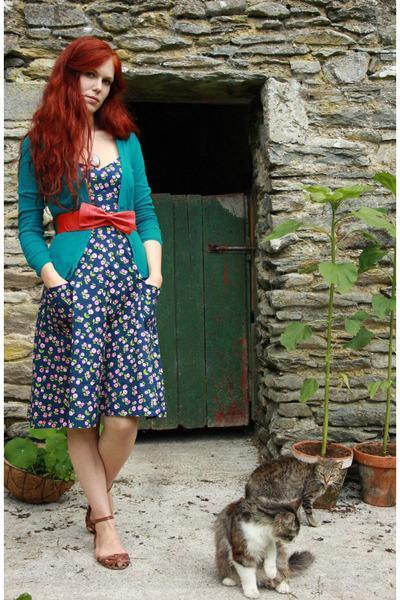dress: (12, 162, 163, 430)
jacket: (4, 133, 161, 275)
shoe: (84, 505, 130, 569)
